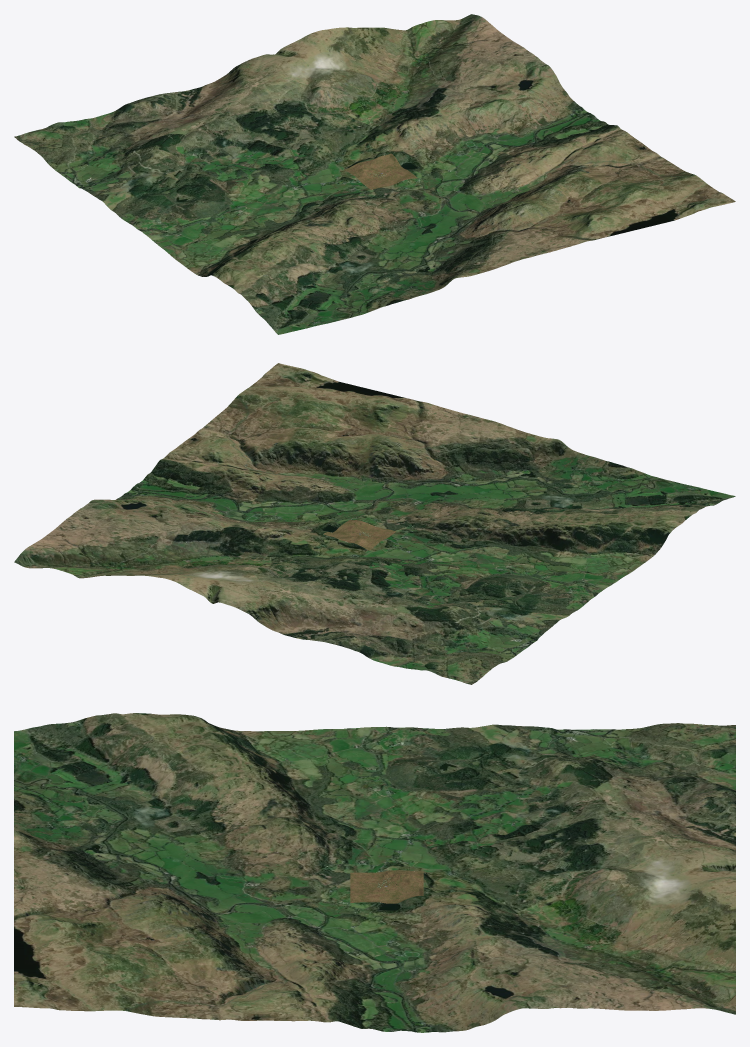
The model's file is fairfield-site-2026-10-31.glb.
3 renders of one model, top to bottom at view 1: azimuth 30°, elevation 25°; view 2: azimuth 150°, elevation 25°; view 3: azimuth 270°, elevation 25°, orthographic. The views are drawn at different scales.
Visible parts, largest first — view 1: site-LR-regional-terrain-seamless, site-FS-terrain; view 2: site-LR-regional-terrain-seamless, site-FS-terrain; view 3: site-LR-regional-terrain-seamless, site-FS-terrain.
Boxes of the visible parts, x1,y1,x2,y2 form: site-LR-regional-terrain-seamless: (14,14,735,334); site-FS-terrain: (345,153,417,189); site-LR-regional-terrain-seamless: (14,363,735,684); site-FS-terrain: (323,519,396,550); site-LR-regional-terrain-seamless: (14,713,735,1032); site-FS-terrain: (350,870,423,903).
Bounding box in the file's own units: 5990 × 461 × 5990.
Materials: 38 (19 with a texture image).
